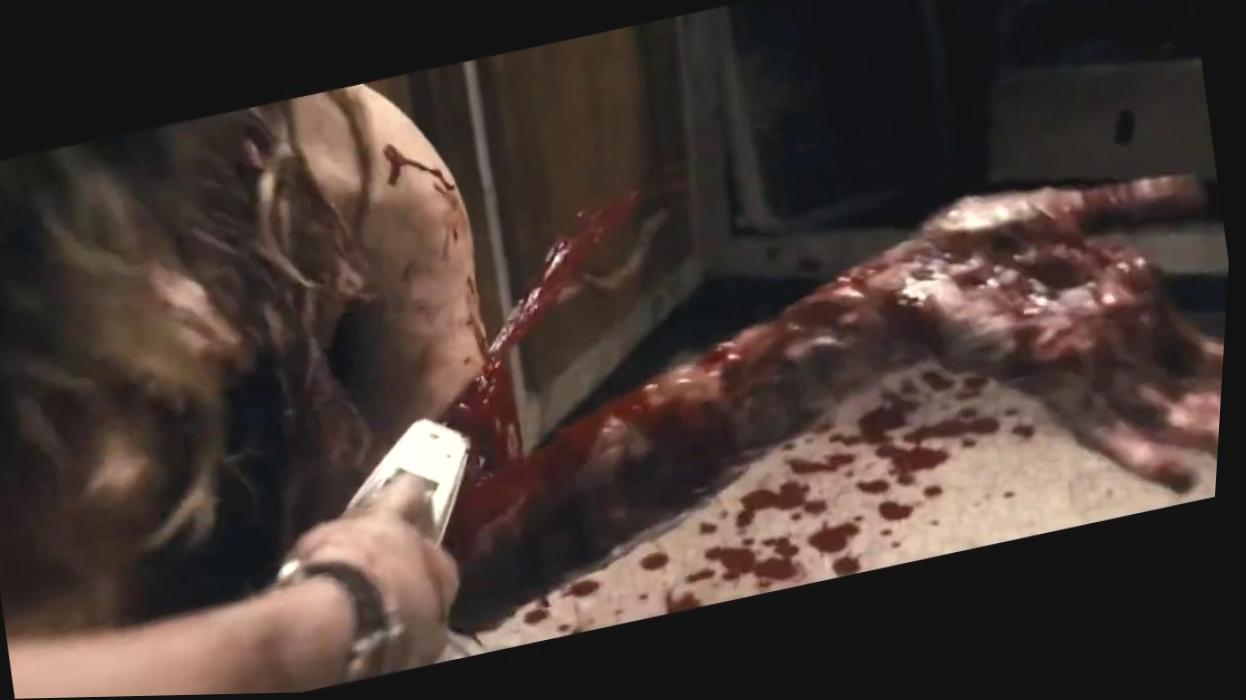Fire: (376, 145, 1229, 661)
